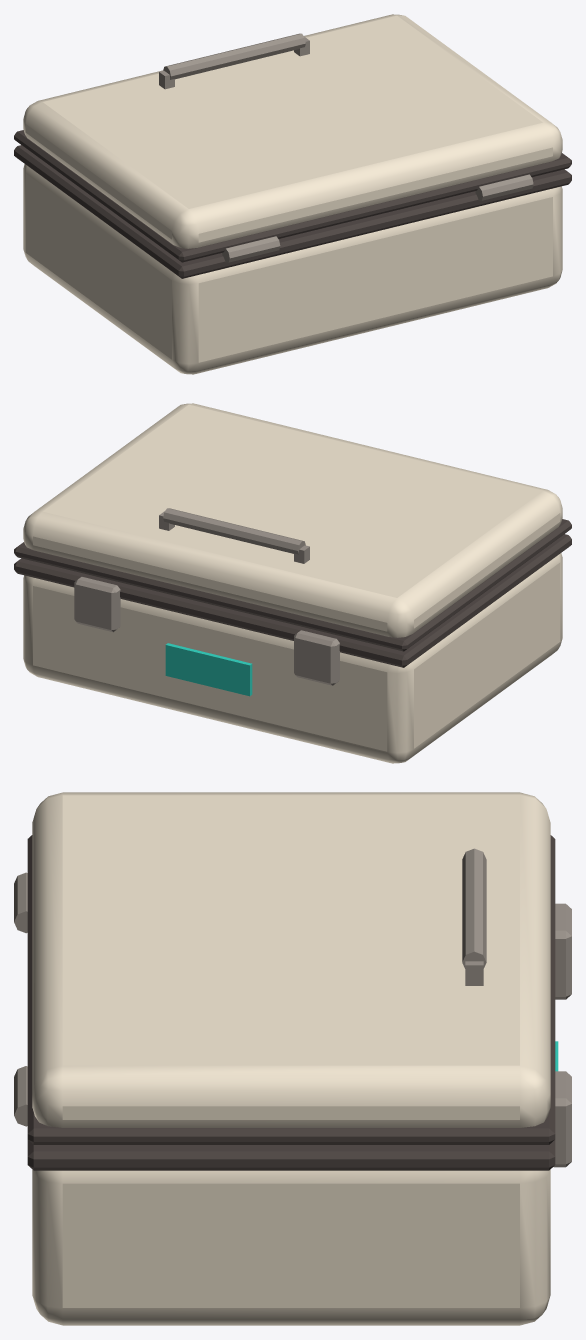
File: prop_sample_case.glb
3 renders of one model, top to bottom at view 1: azimuth 30°, elevation 25°; view 2: azimuth 150°, elevation 25°; view 3: azimuth 270°, elevation 25°, orthographic. The views are drawn at different scales.
Parts seen in each view (by area): view 1: lid, case; view 2: lid, case; view 3: lid, case.
Boxes of the visible parts, x1,y1,x2,y2 form: lid: (14,14,571,262); case: (14,145,571,374); lid: (14,403,571,651); case: (14,534,571,763); lid: (14,792,555,1144); case: (27,903,571,1325).
Size of the model in its own units: 0.466 by 0.208 by 0.366.
